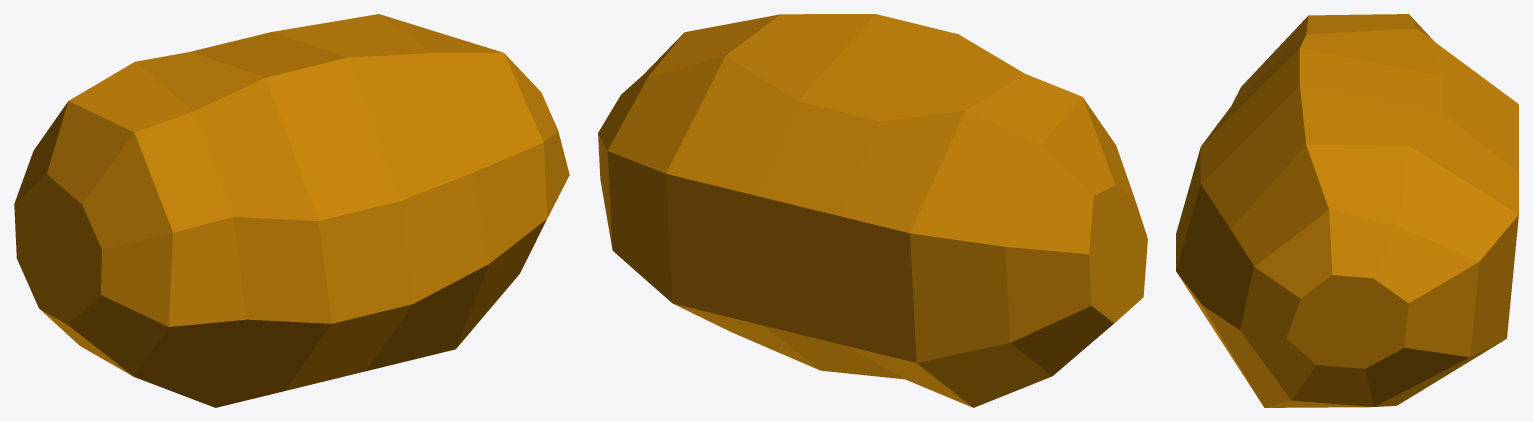
File: potato01.obj
The picture shows the model from 3 angles, left to right: view 1: azimuth 30°, elevation 25°; view 2: azimuth 150°, elevation 25°; view 3: azimuth 270°, elevation 25°; orthographic projection. The views are drawn at different scales.
Visible parts, largest first — view 1: Cylinder.001; view 2: Cylinder.001; view 3: Cylinder.001.
Boxes of the visible parts, bbox=[...] form: Cylinder.001: bbox=[14, 14, 569, 407]; Cylinder.001: bbox=[598, 14, 1147, 407]; Cylinder.001: bbox=[1176, 14, 1518, 407].
Bounding box in the file's own units: 0.1018 × 0.0622 × 0.0661.
1 material, 1 textured.
